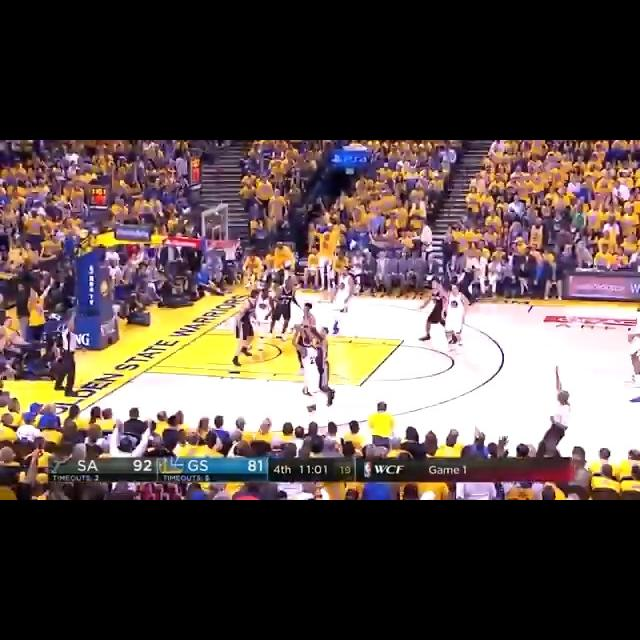hoop: (221, 233, 241, 265)
